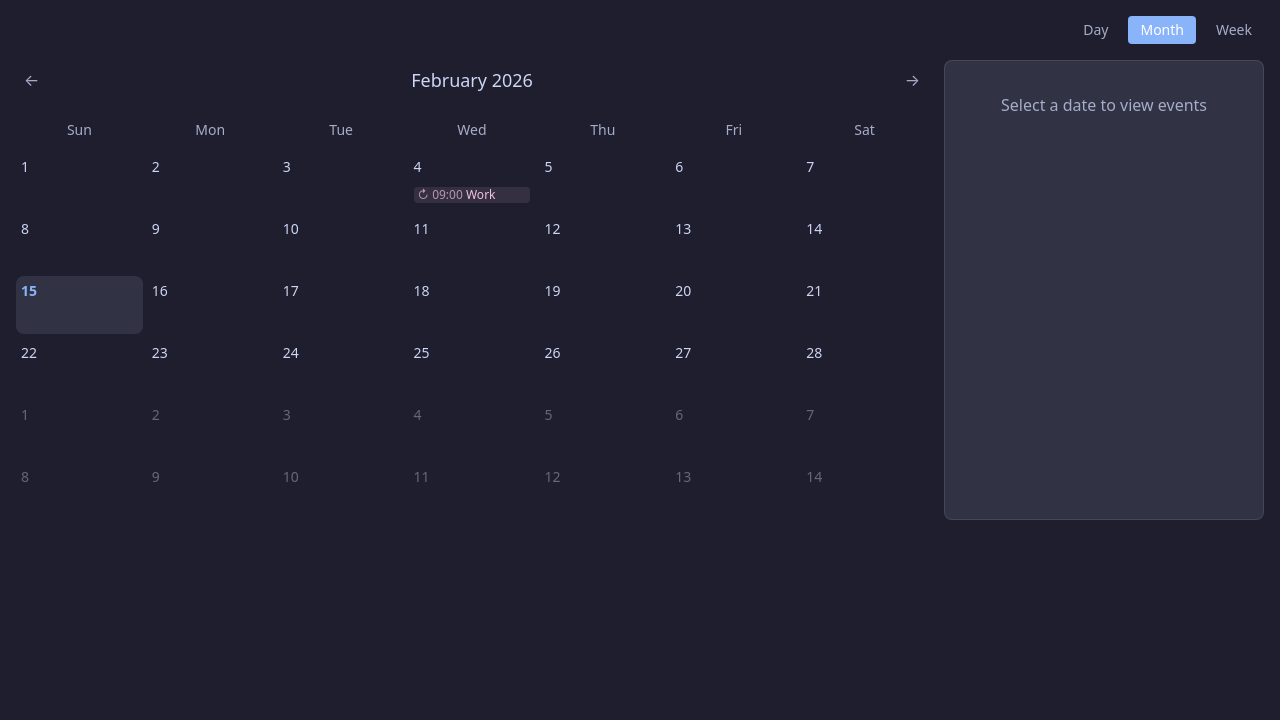
it: editing the repeat rule › opens the edit form with the stored rule already filled in
Click the button "↻ 09:00 Work" at (472,195), box 414,187 -> 530,203
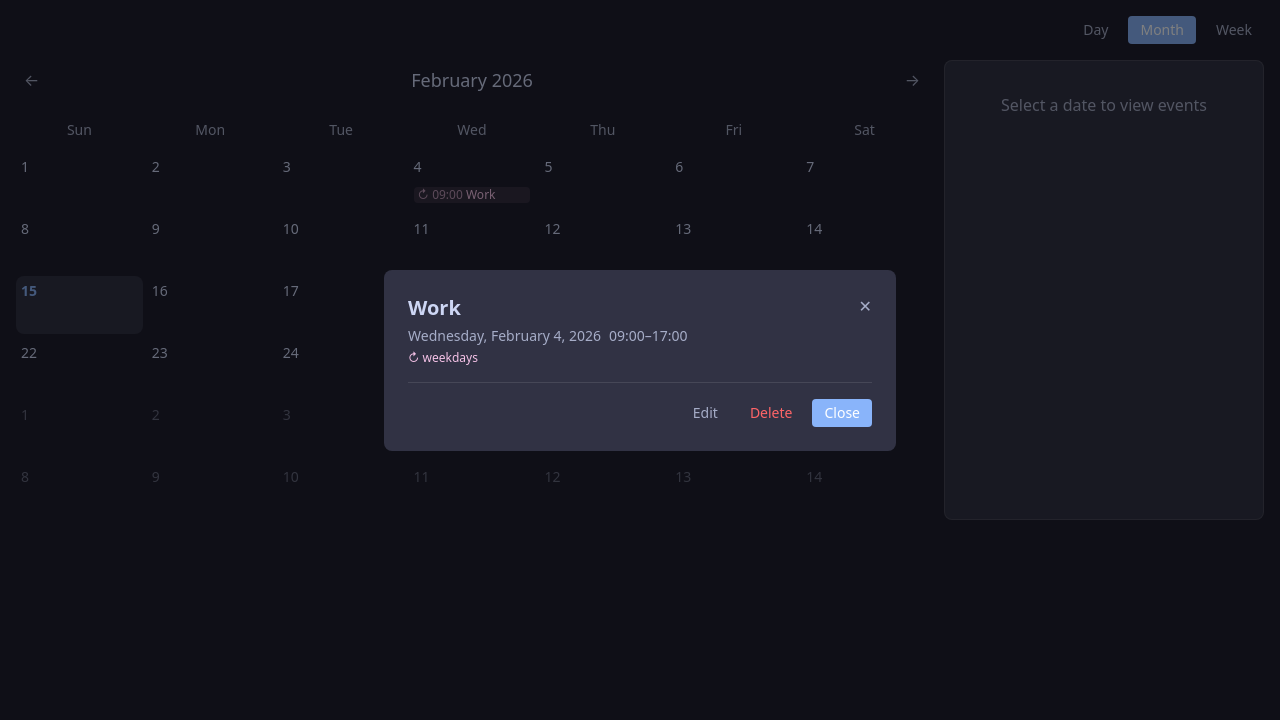
Click the button "Edit" at (705,412), box 681,398 -> 730,426
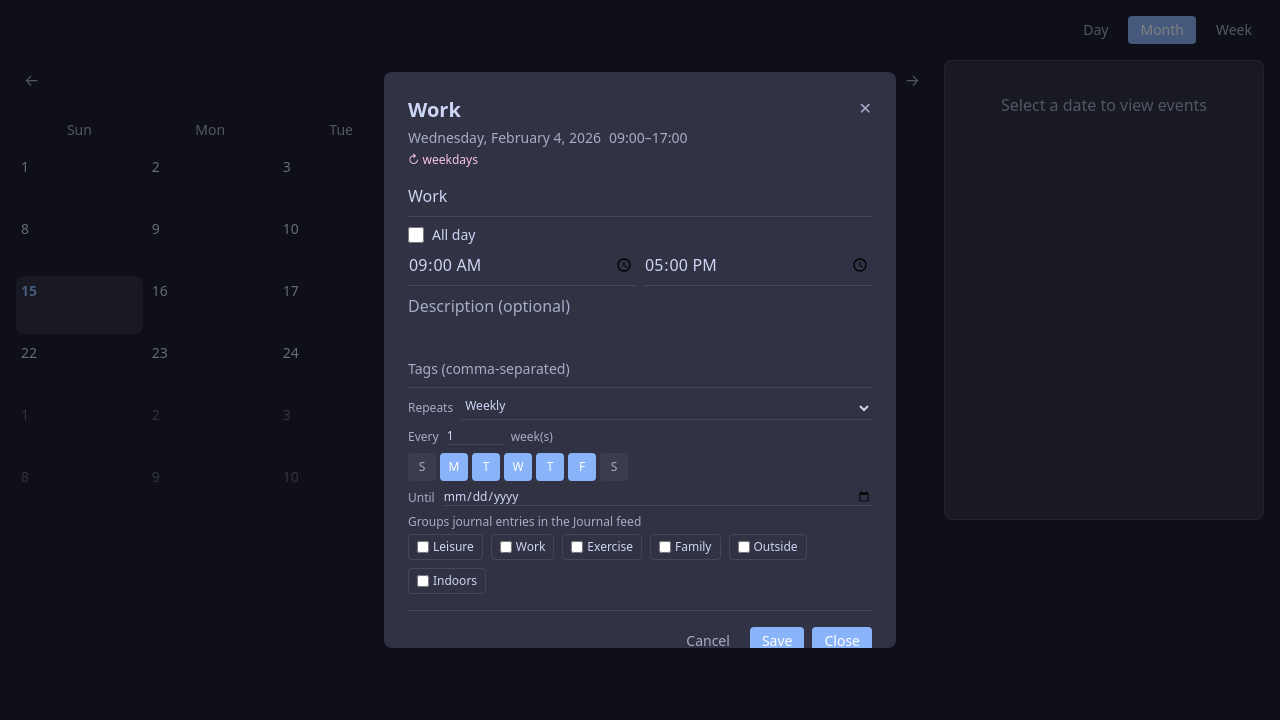
Now the dropdown labelled "Repeats" shows "Weekly", box 461,396 -> 872,420
Now the number field named "Repeat interval" holds "1", box 447,428 -> 503,445
